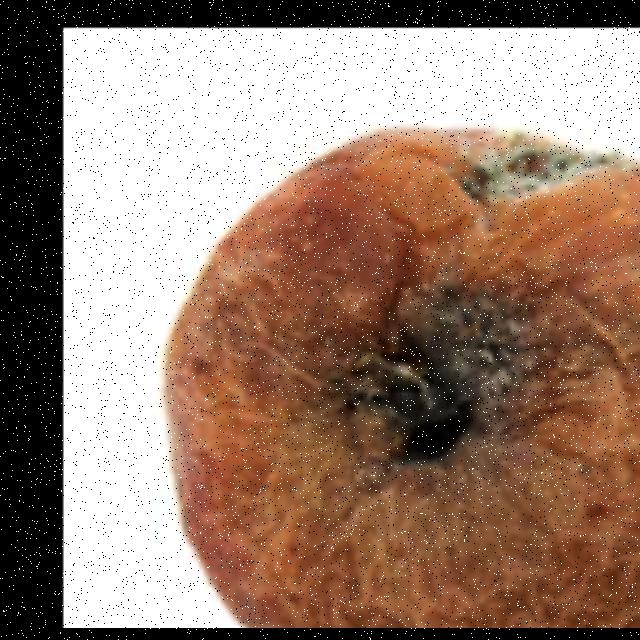Apel Tidak Segar: (146, 112, 640, 628)
